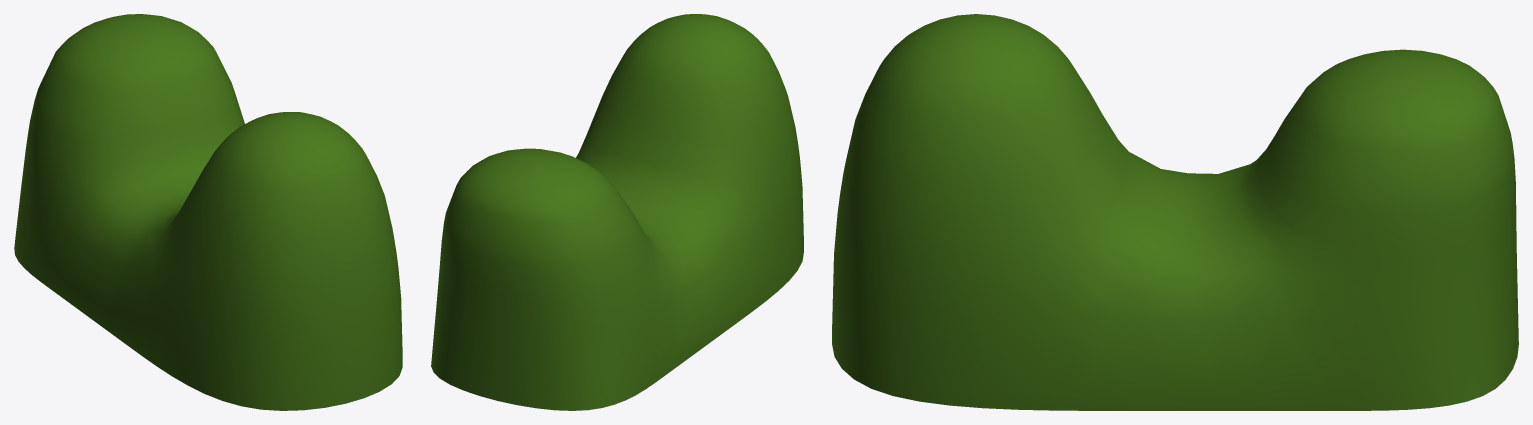
Rendered from mountain2.fbx.
The picture shows the model from 3 angles, left to right: view 1: azimuth 30°, elevation 25°; view 2: azimuth 150°, elevation 25°; view 3: azimuth 270°, elevation 25°; orthographic projection. The views are drawn at different scales.
Visible parts, largest first — view 1: Cube.033; view 2: Cube.033; view 3: Cube.033.
Part boxes in pixels (box(x1,y1,x2,y2)): Cube.033: box(14, 14, 402, 410); Cube.033: box(431, 14, 803, 410); Cube.033: box(832, 14, 1518, 410).
Bounding box in the file's own units: 23.14 × 50.56 × 25.91.
